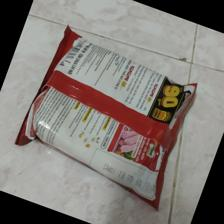Kokomi: (14, 24, 200, 209)
